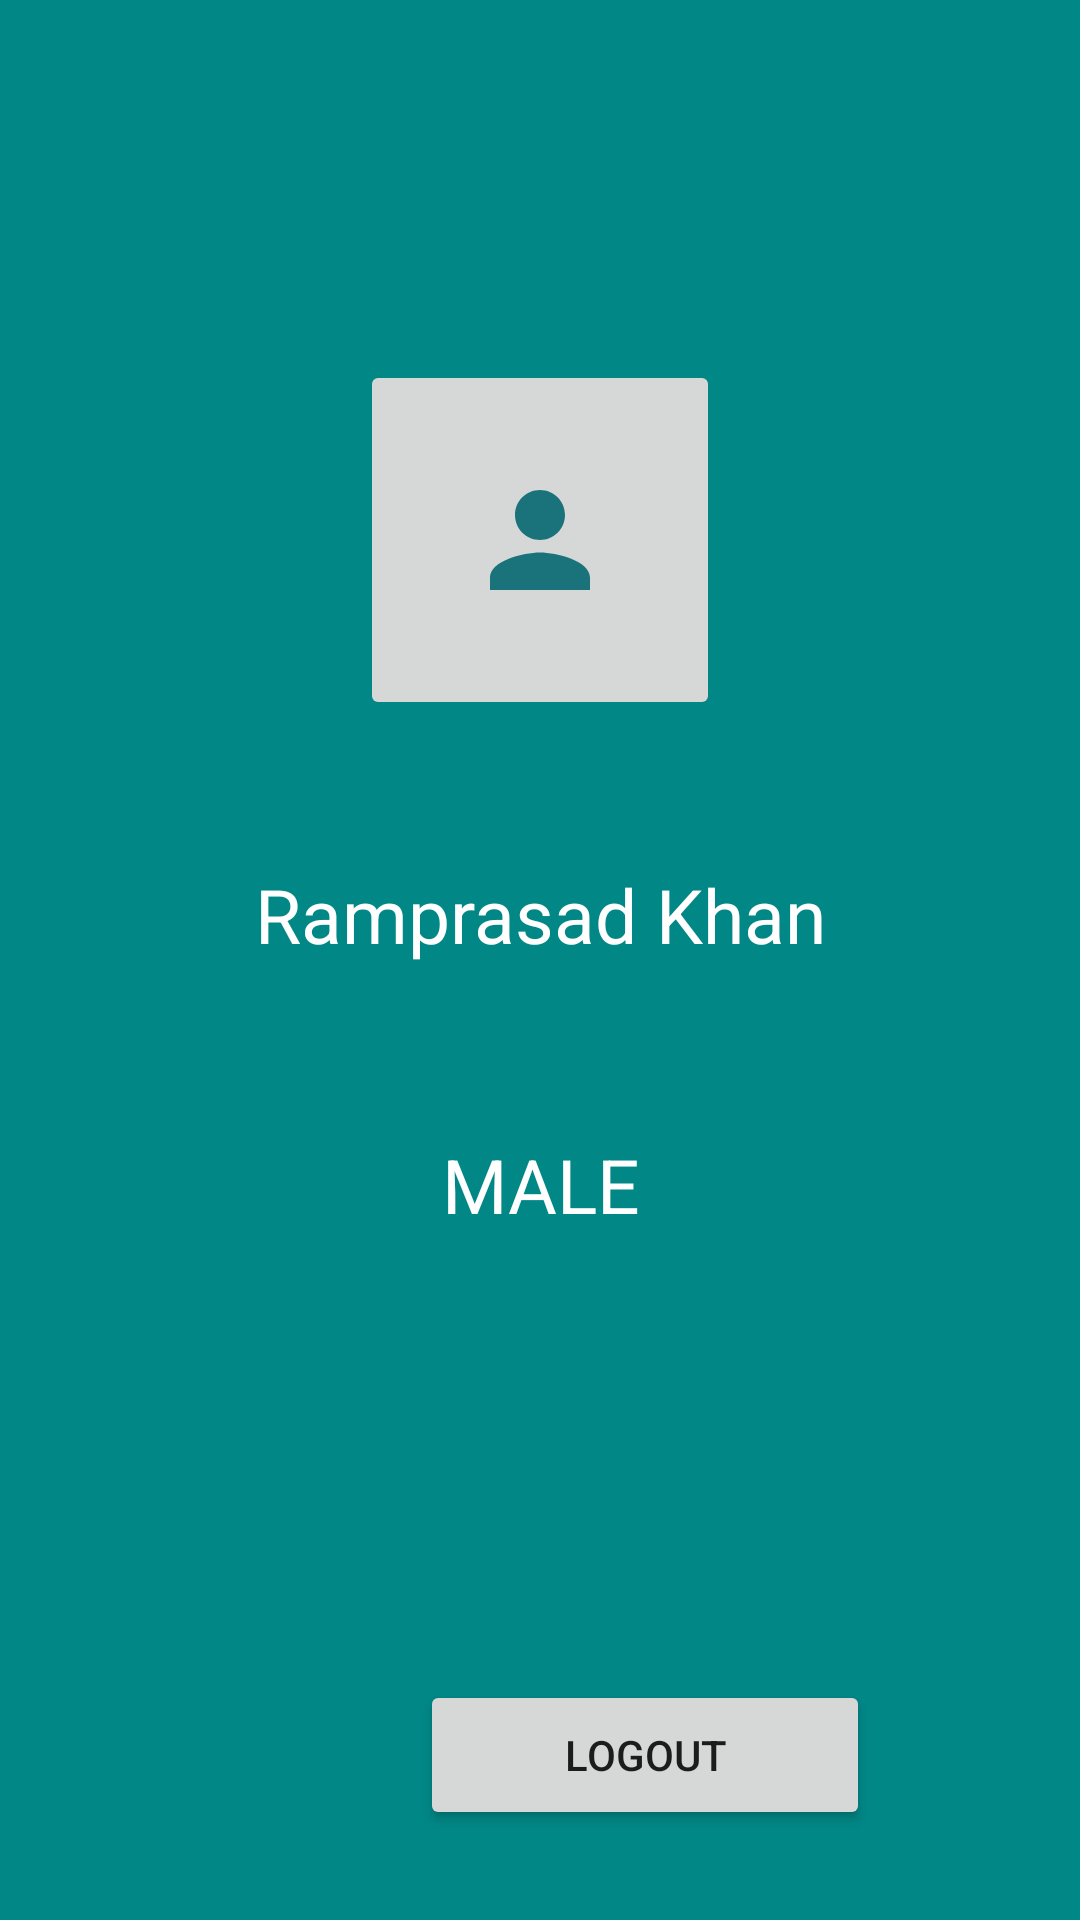

Screen size 1080w x 1920h. Icon name, then its center in pixels as (x=x, y=y):
person: (x=540, y=540)
